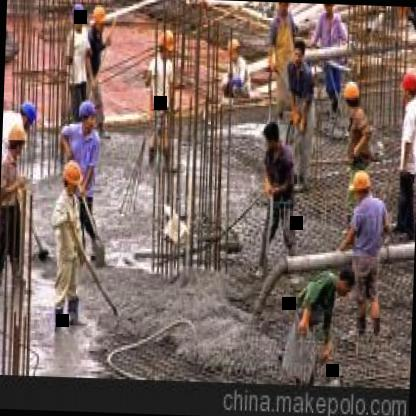head: (336, 267, 362, 297), (290, 34, 313, 66), (263, 117, 284, 152)
helmet: (59, 158, 87, 206), (4, 117, 26, 165), (348, 170, 375, 205), (156, 28, 180, 63), (80, 98, 101, 136), (395, 69, 416, 106), (68, 1, 88, 36), (344, 79, 364, 114), (91, 0, 109, 32)
